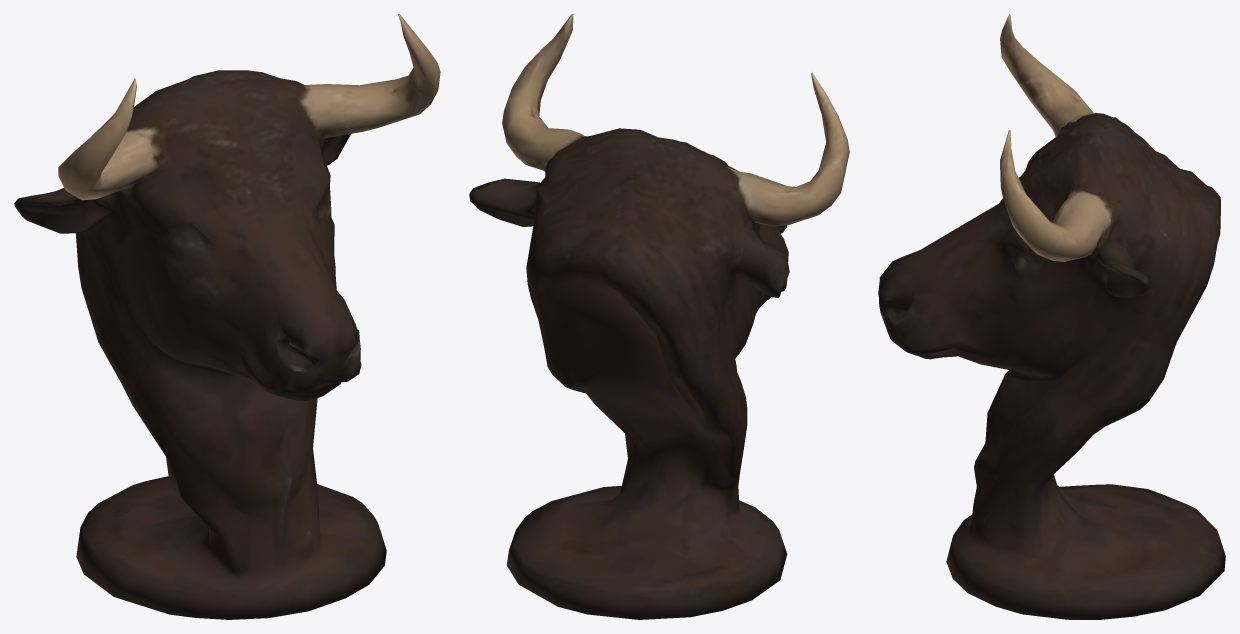
File: ph-bull-head.lod1.glb
3 renders of one model, left to right at view 1: azimuth 30°, elevation 25°; view 2: azimuth 150°, elevation 25°; view 3: azimuth 270°, elevation 25°, orthographic. The views are drawn at different scales.
Visible parts, largest first — view 1: bull_head; view 2: bull_head; view 3: bull_head.
Part boxes in pixels (x1,y1,x2,y2): bull_head: (14,14,440,619); bull_head: (469,14,849,619); bull_head: (878,14,1225,619).
Size of the model in its own units: 0.2404 by 0.3397 by 0.2198.
1 material, 1 textured.
